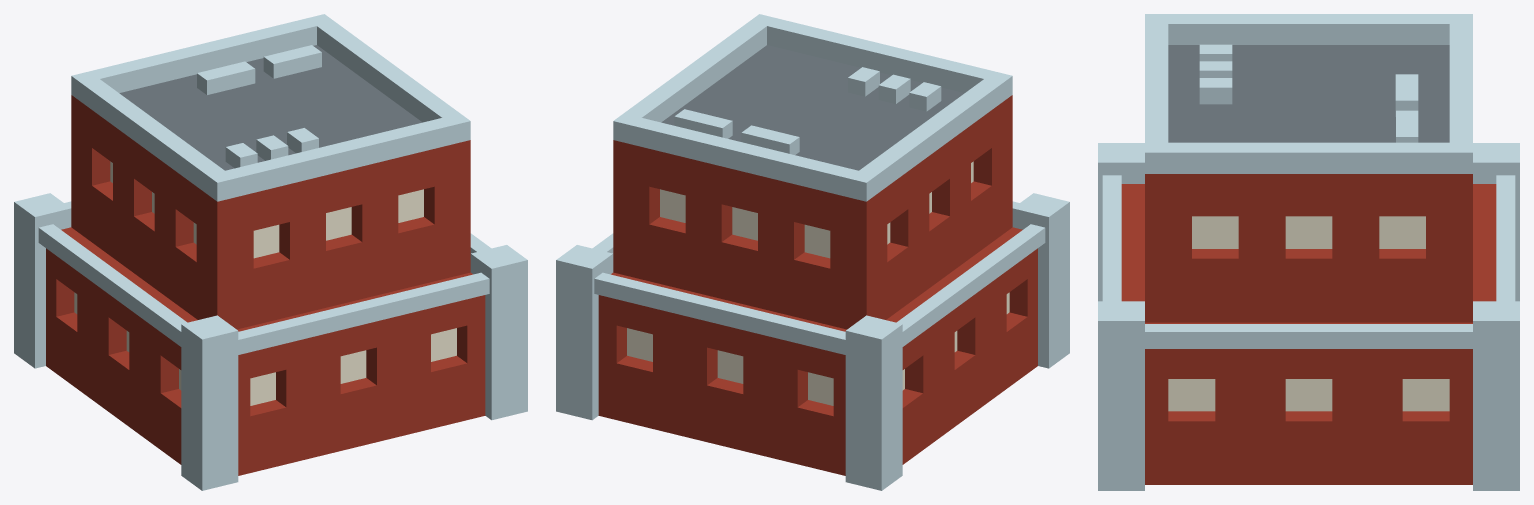
File: Building_6_Extra (Red).obj
The picture shows the model from 3 angles, left to right: view 1: azimuth 30°, elevation 25°; view 2: azimuth 150°, elevation 25°; view 3: azimuth 270°, elevation 25°; orthographic projection. The views are drawn at different scales.
Visible parts, largest first — view 1: Building_6_Extra_(Red); view 2: Building_6_Extra_(Red); view 3: Building_6_Extra_(Red).
Boxes of the visible parts, x1,y1,x2,y2 form: Building_6_Extra_(Red): (14,14,527,490); Building_6_Extra_(Red): (556,14,1069,490); Building_6_Extra_(Red): (1098,14,1519,490).
Size of the model in its own units: 1.8 by 1.5 by 1.8.
